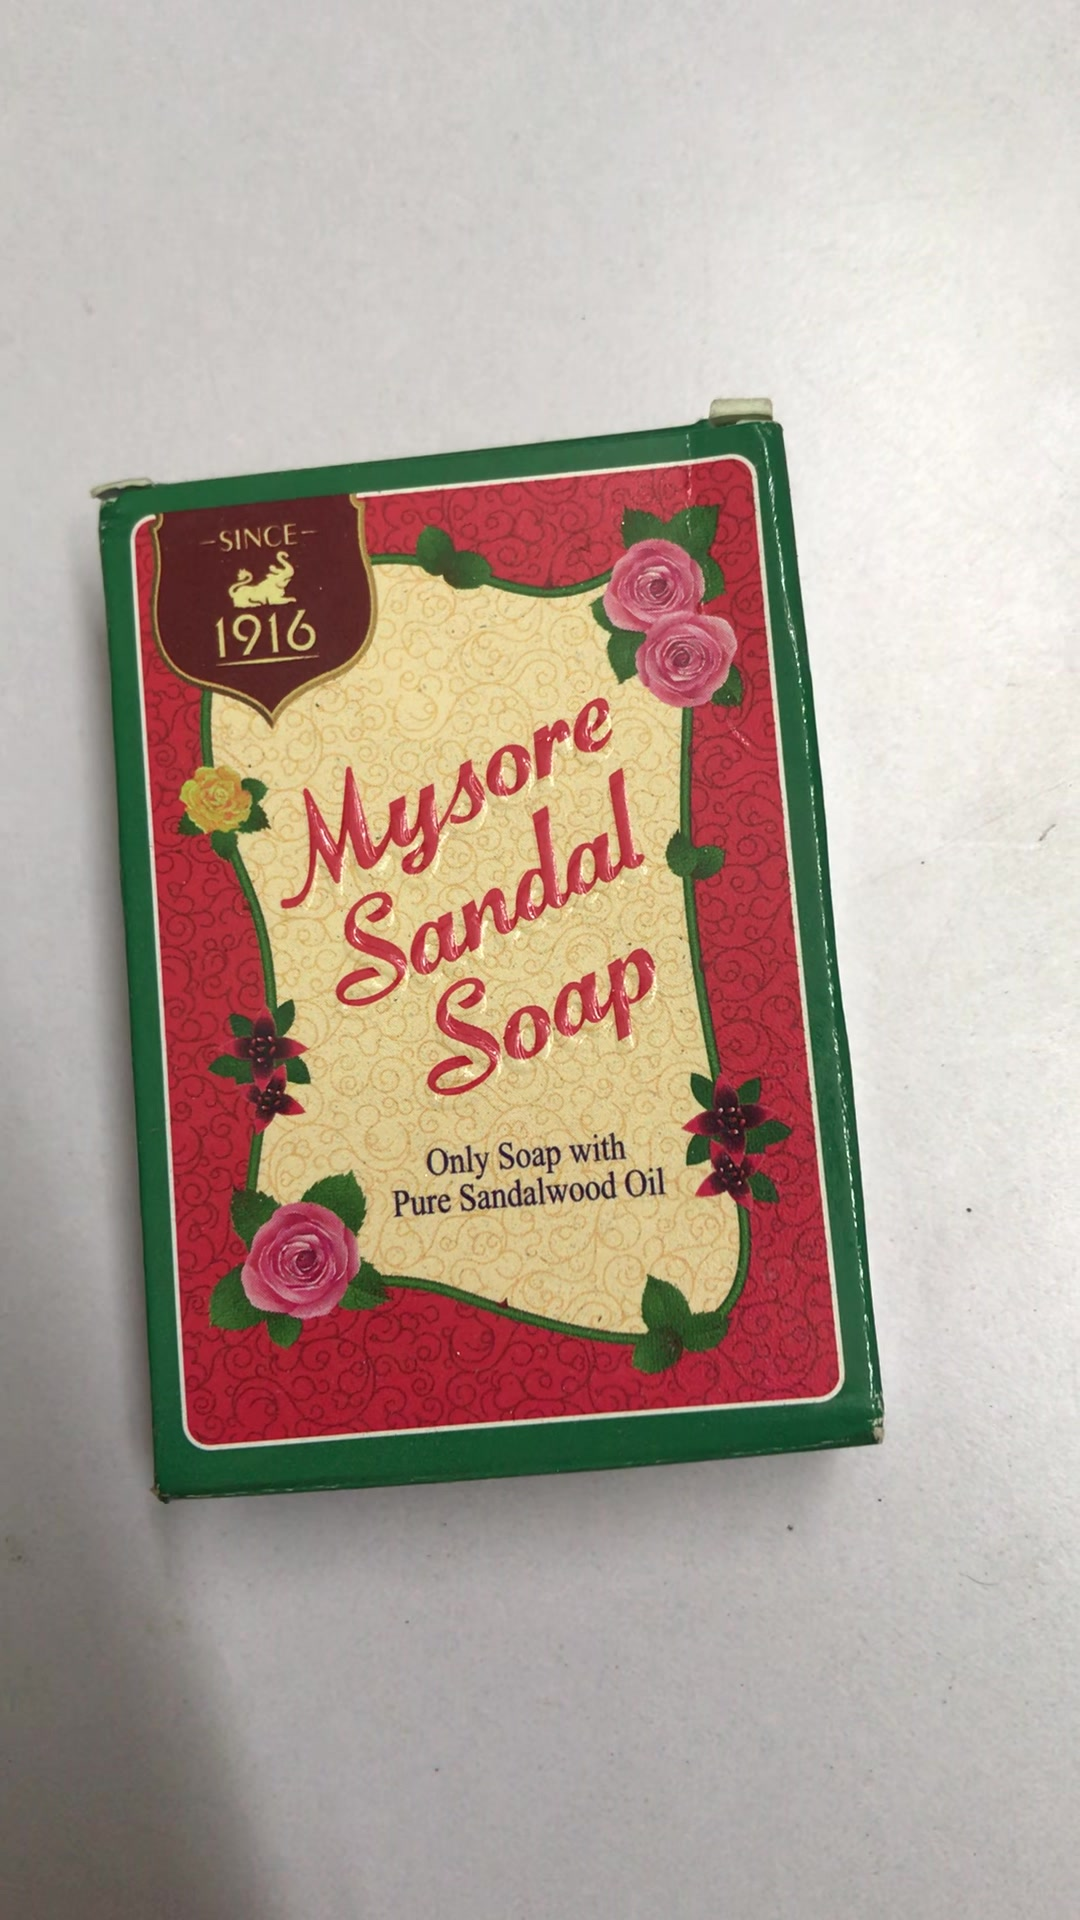mysore sandal soap: (99, 417, 880, 1501)
